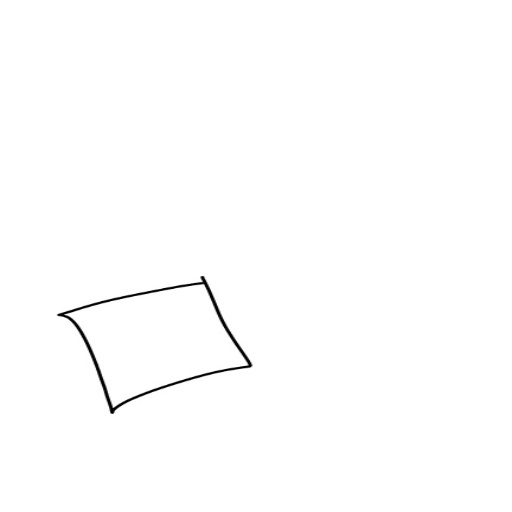square: (48, 260, 259, 472)
